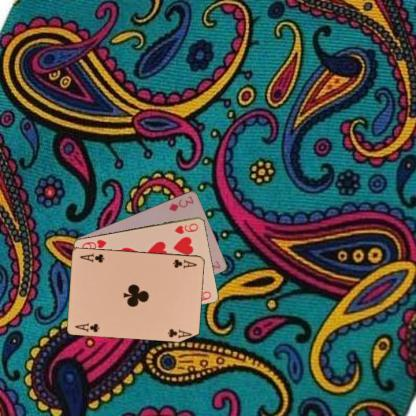3d: (166, 193, 195, 213)
9h: (172, 220, 199, 235)
Ac: (73, 320, 101, 333), (171, 257, 198, 269)
